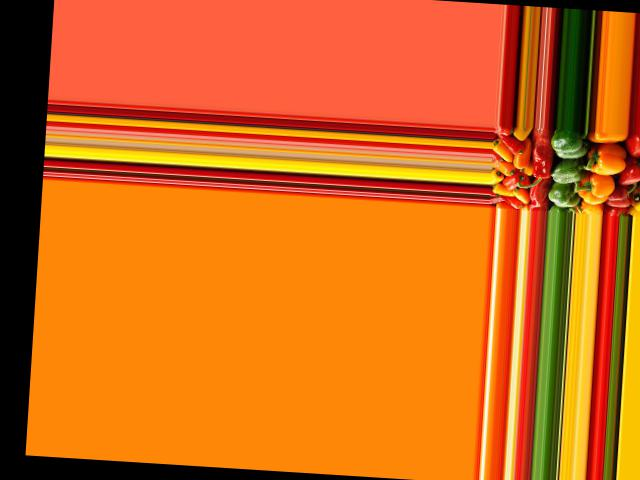bell_pepper: (496, 132, 524, 155)
